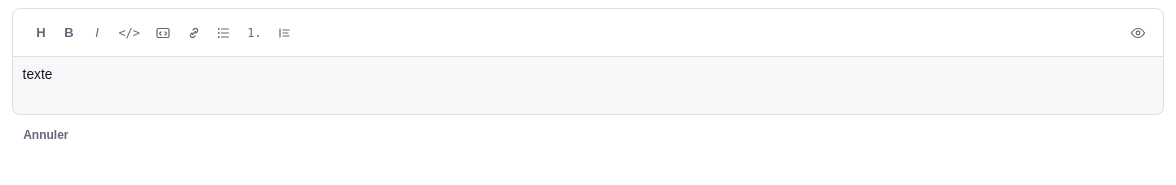
Test: MarkdownEditor — menus déroulants › menu Titre : ouvre la liste des niveaux, insère le préfixe choisi puis se ferme
This screenshot has width=1176, height=185.
Click the button named "Titre": (41, 32) [27,18,55,46]
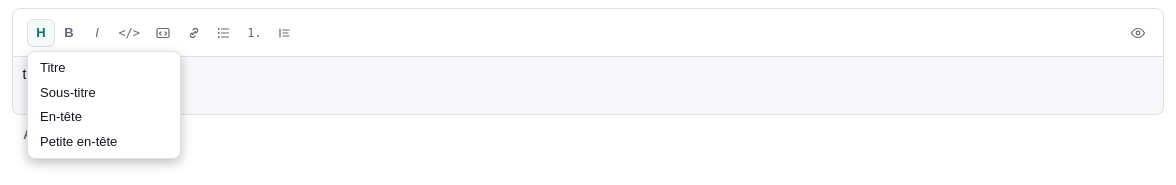
Expected: the button named "Titre" is expanded, [27,18,55,46]
Click the menu item "Sous-titre": (104, 92) [32,80,176,105]
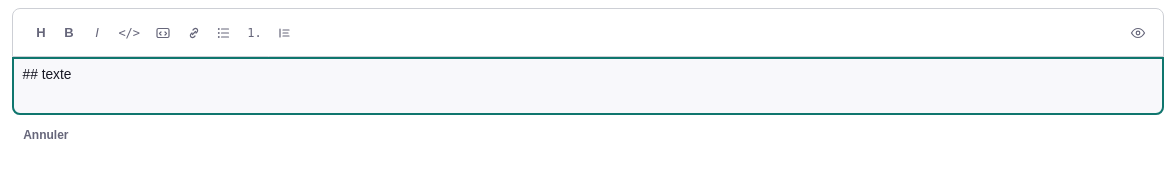
Expected: the menu is gone
